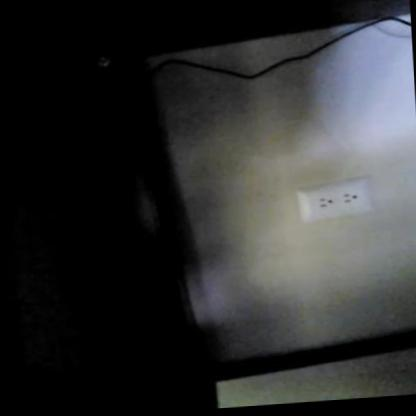OUTLET: (295, 174, 372, 222)
